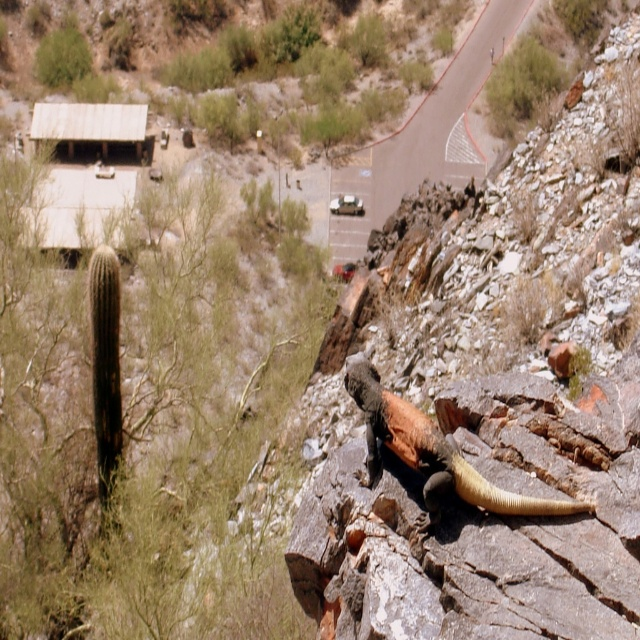Lizard: (358, 372, 604, 554)
